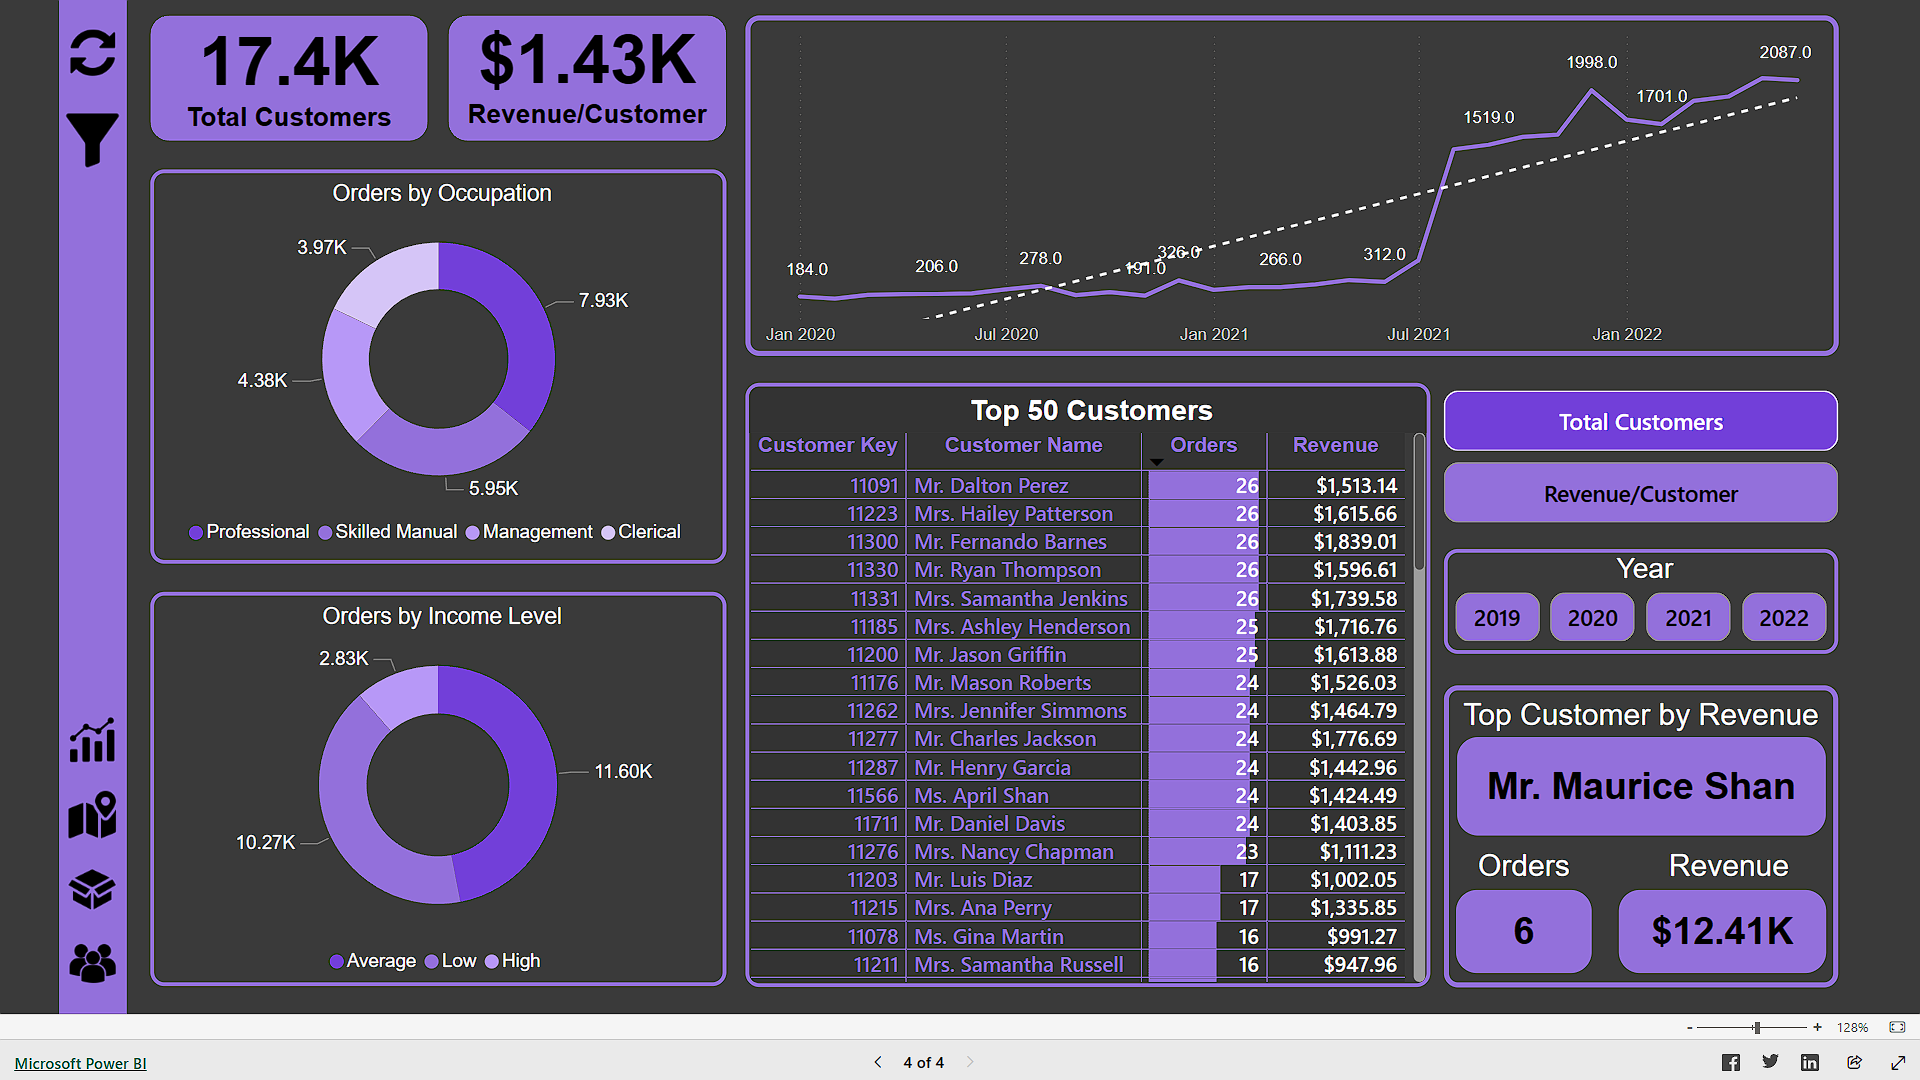

What the dashboard file says about the page in this screenshot:
{"tool":"powerbi","page":{"name":"Customer Details","canvas":[1280,720],"ordinal":3},"visuals":[{"type":"shape","box":[0,0,48.5,719.8],"z":0,"group":"g1"},{"type":"shape","box":[983.6,486.4,280,214.5],"z":0},{"type":"image","box":[3.5,21,41,32.5],"z":1000,"group":"g1"},{"type":"tableEx","title":"Top 50 Customers","fields":{"Values":["Customer Lookup.Customer_Key","Customer Lookup.Full_Name","_Measure Table.Total Orders","_Measure Table.Total Revenue"]},"box":[487.3,271.8,486.4,429.1],"z":1000},{"type":"image","box":[4.8,79.6,38.1,40],"z":2000,"group":"g1"},{"type":"card","fields":{"Values":["_Measure Table.Total Orders"]},"box":[991.8,631.8,96.4,59],"z":2000},{"type":"shape","box":[64.5,10.9,197,89.1],"z":3000},{"type":"image","box":[3.4,508.3,40.8,33.3],"z":3000,"group":"g2"},{"type":"card","fields":{"Values":["Min(Customer Lookup.Full_Name)"]},"box":[992.7,523.6,261.8,70],"z":4000},{"type":"image","box":[3.5,561.3,40.9,33.6],"z":4000,"group":"g2"},{"type":"shape","box":[276.4,10.9,197.3,89.1],"z":5000},{"type":"image","box":[3.2,614.5,41.1,33.7],"z":5000,"group":"g2"},{"type":"card","fields":{"Values":["_Measure Table.Total Revenue"]},"box":[1107.3,631.8,147.3,59],"z":6000},{"type":"image","box":[3.7,667.8,40.6,32.6],"z":6000,"group":"g2"},{"type":"textbox","box":[991.8,496.4,262.7,27.3],"z":7000},{"type":"card","fields":{"Values":["_Measure Table.Avg Revenue per Customer"]},"box":[276.4,4.6,197.3,89.1],"z":8000},{"type":"textbox","box":[991.8,602.7,96.4,29.1],"z":9000},{"type":"card","fields":{"Values":["_Measure Table.Total Customers"]},"box":[64.5,6.5,197.3,89.1],"z":10000},{"type":"textbox","box":[1107.3,602.7,156.4,29.1],"z":11000},{"type":"advancedSlicerVisual","fields":{"Values":["Customer Parameter.Parameter"]},"box":[983.6,271.8,280,104.5],"z":12000},{"type":"donutChart","title":"Orders by Income Level","fields":{"Category":["Customer Lookup.Income Level"],"Y":["_Measure Table.Total Orders"]},"box":[64.5,420,409.1,280],"z":13000},{"type":"donutChart","title":"Orders by Occupation","fields":{"Y":["_Measure Table.Total Orders"],"Category":["Customer Lookup.Occupation"]},"box":[64.5,120,409.1,280],"z":14000},{"type":"lineChart","title":"Trend","fields":{"Y":["_Measure Table.Total Customers"],"Category":["Calendar Lookup.Date_Hierarchy.Year","Calendar Lookup.Date_Hierarchy.Quarter","Calendar Lookup.Date_Hierarchy.Start of Month","Calendar Lookup.Date_Hierarchy.Day Name","Calendar Lookup.Date_Hierarchy.Date"]},"box":[487.3,10.9,776.4,241.8],"z":15000},{"type":"advancedSlicerVisual","fields":{"Values":["Sales.Stock_Date.Variation.Date Hierarchy.Year"]},"box":[983.6,390,280,74.5],"z":16000},{"type":"group","id":"g1","title":"Group 1","box":[0,0,48.5,719.8],"z":19000},{"type":"group","id":"g2","title":"Group 3","box":[3.2,508.3,41.2,192.2],"z":22001}]}

Visuals, with their boxes on the page's 1280x720 design canvas (x1, y1, x2, y2). These are canvas units, not pixel positions in the 1920x1080 screenshot, which may show the page scaled, cropped or inside an application window:
shape: l=0, t=0, r=48, b=720
shape: l=984, t=486, r=1264, b=701
image: l=4, t=21, r=44, b=54
"Top 50 Customers" tableEx: l=487, t=272, r=974, b=701
image: l=5, t=80, r=43, b=120
card - _Measure Table.Total Orders: l=992, t=632, r=1088, b=691
shape: l=64, t=11, r=262, b=100
image: l=3, t=508, r=44, b=542
card - Min(Customer Lookup.Full_Name): l=993, t=524, r=1254, b=594
image: l=4, t=561, r=44, b=595
shape: l=276, t=11, r=474, b=100
image: l=3, t=614, r=44, b=648
card - _Measure Table.Total Revenue: l=1107, t=632, r=1255, b=691
image: l=4, t=668, r=44, b=700
textbox: l=992, t=496, r=1254, b=524
card - _Measure Table.Avg Revenue per Customer: l=276, t=5, r=474, b=94
textbox: l=992, t=603, r=1088, b=632
card - _Measure Table.Total Customers: l=64, t=6, r=262, b=96
textbox: l=1107, t=603, r=1264, b=632
advancedSlicerVisual - Customer Parameter.Parameter: l=984, t=272, r=1264, b=376
"Orders by Income Level" donutChart: l=64, t=420, r=474, b=700
"Orders by Occupation" donutChart: l=64, t=120, r=474, b=400
"Trend" lineChart: l=487, t=11, r=1264, b=253
advancedSlicerVisual - Sales.Stock_Date.Variation.Date Hierarchy.Year: l=984, t=390, r=1264, b=464
"Group 1" group: l=0, t=0, r=48, b=720
"Group 3" group: l=3, t=508, r=44, b=700
